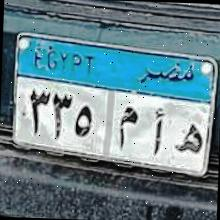3: (26, 88, 51, 138), (51, 88, 73, 141)
5: (72, 102, 96, 140)
alif: (149, 106, 168, 154)
haa: (174, 115, 204, 161)
meem: (114, 103, 139, 153)
